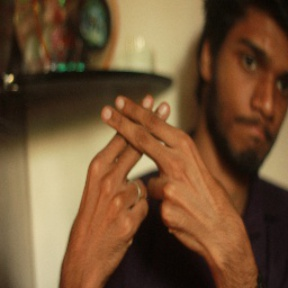F: (84, 78, 204, 197)
